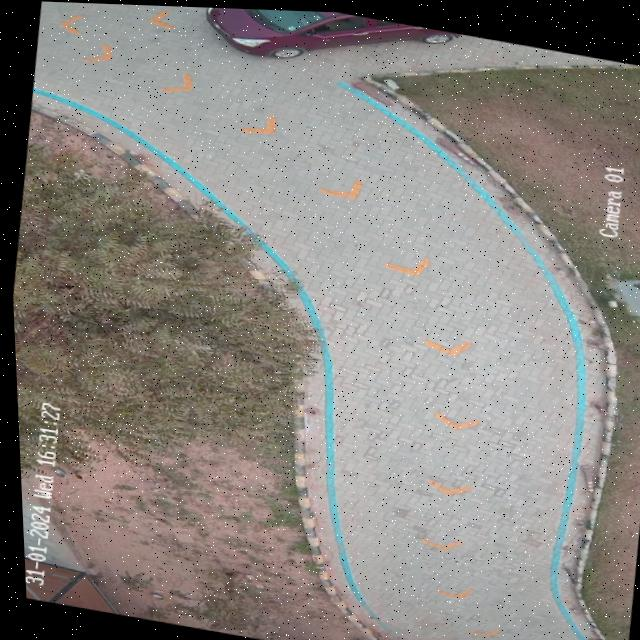car: (202, 6, 456, 55)
